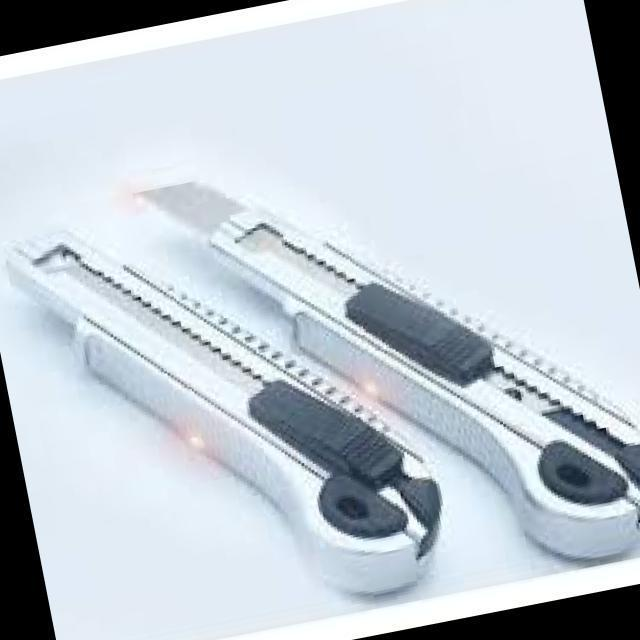cutter: (125, 84, 640, 640), (0, 145, 463, 640)
